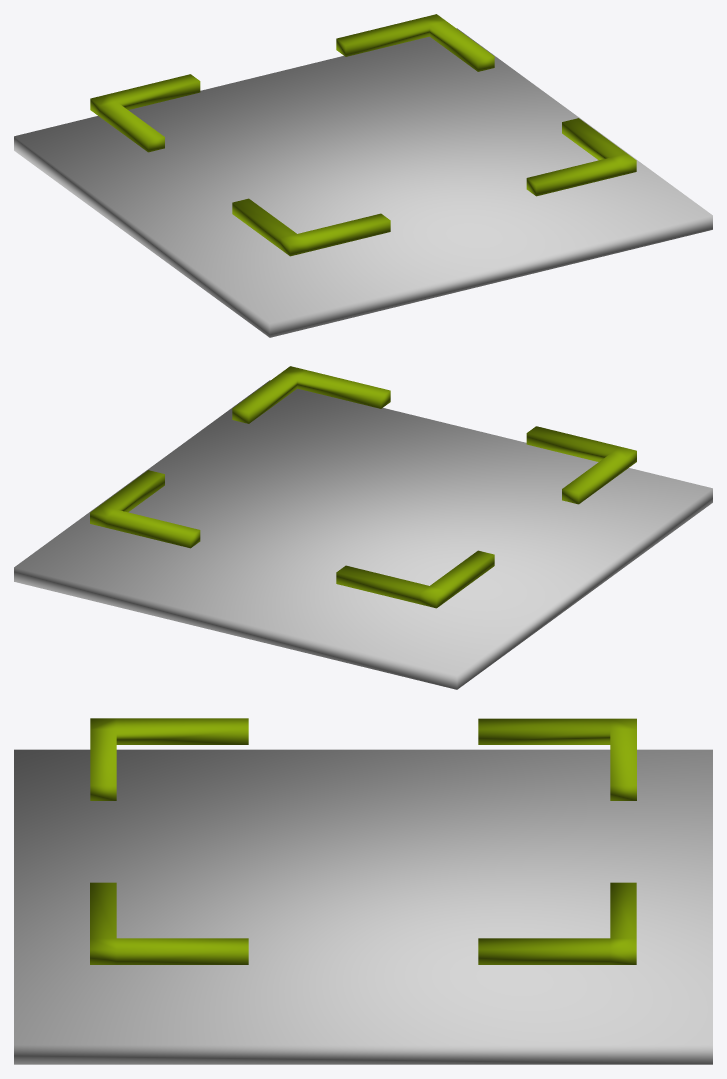
The model's file is ring-target.gltf.
3 renders of one model, top to bottom at view 1: azimuth 30°, elevation 25°; view 2: azimuth 150°, elevation 25°; view 3: azimuth 270°, elevation 25°, orthographic. The views are drawn at different scales.
Bounding box in the file's own units: 1.7 × 0.2223 × 1.7.
